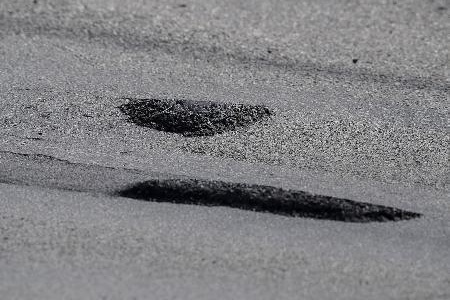pothole: (113, 175, 425, 224), (117, 94, 275, 138)
